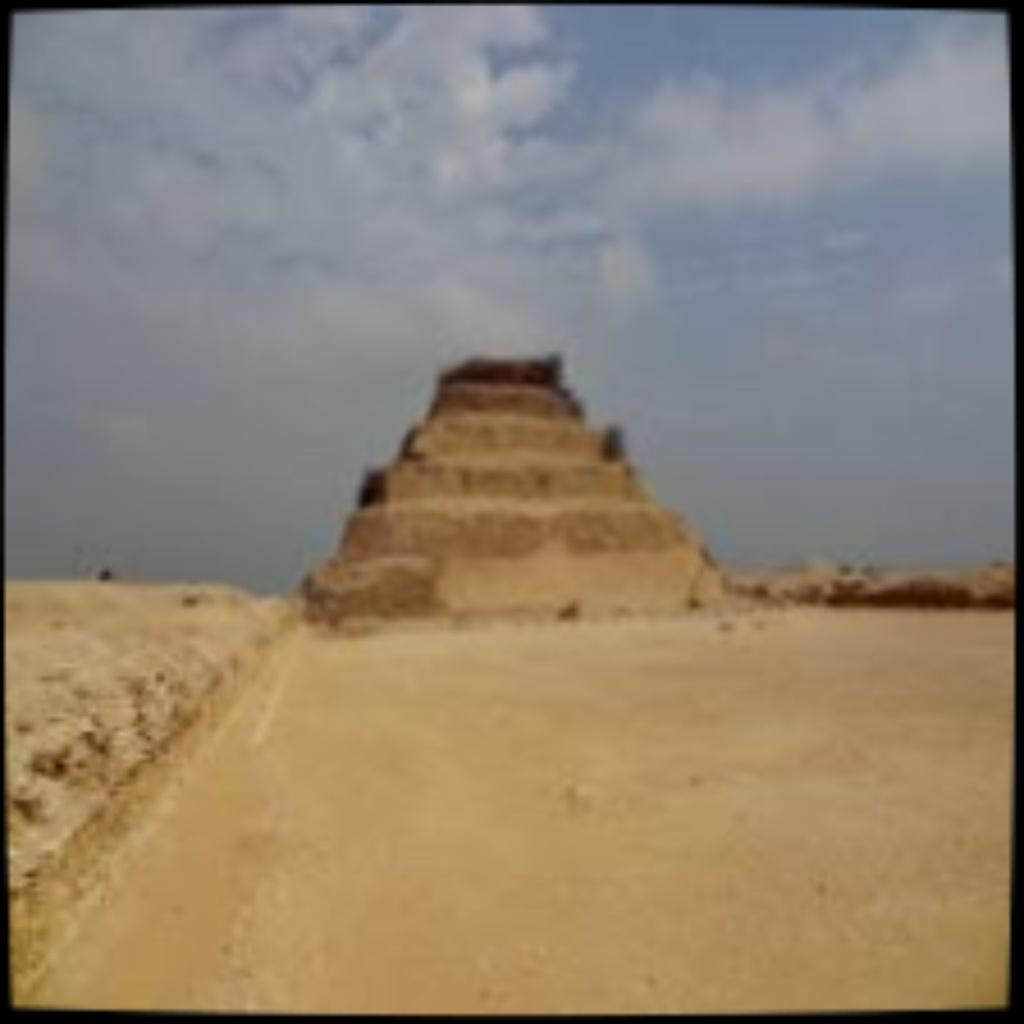Pyramid of Djoser: (293, 343, 736, 626)
